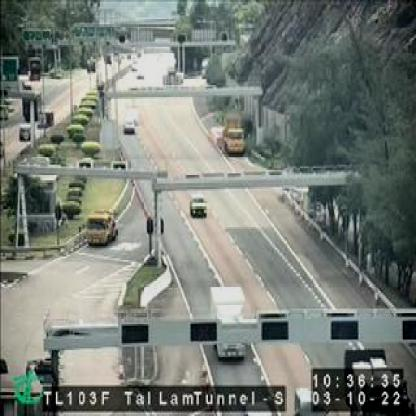Car: (188, 192, 206, 217), (124, 112, 132, 134)
Truck: (208, 284, 246, 357), (209, 112, 244, 150), (87, 208, 116, 243)
